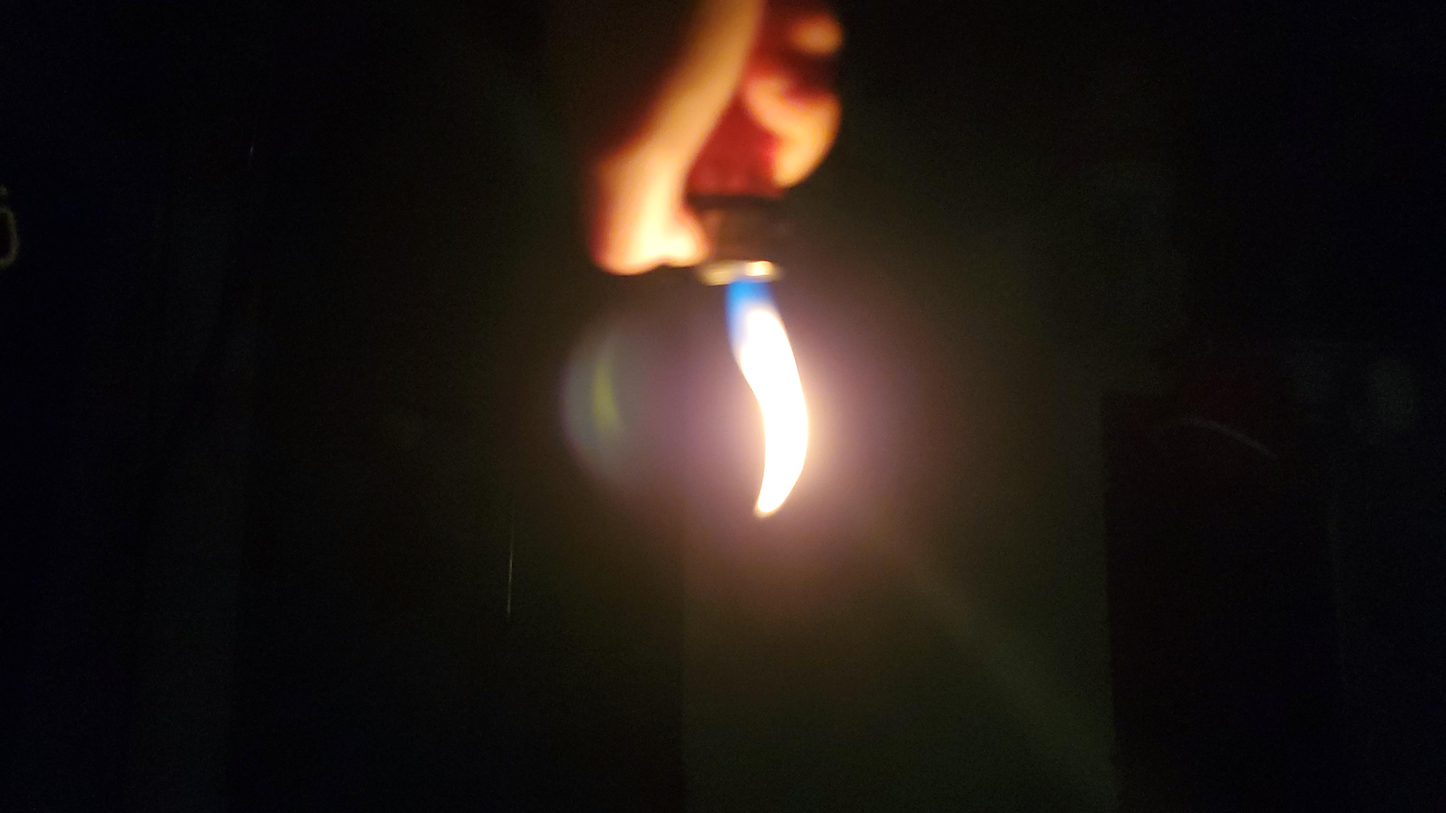fire: (624, 285, 768, 552)
